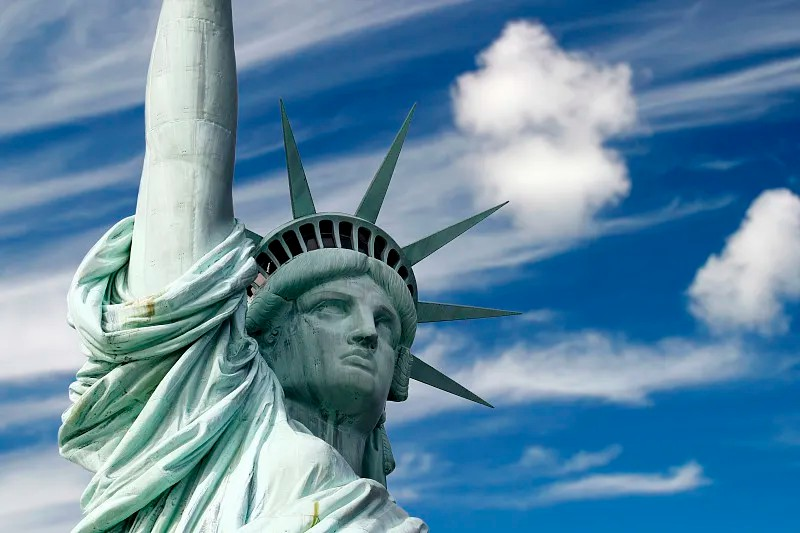SL: (58, 1, 526, 533)
